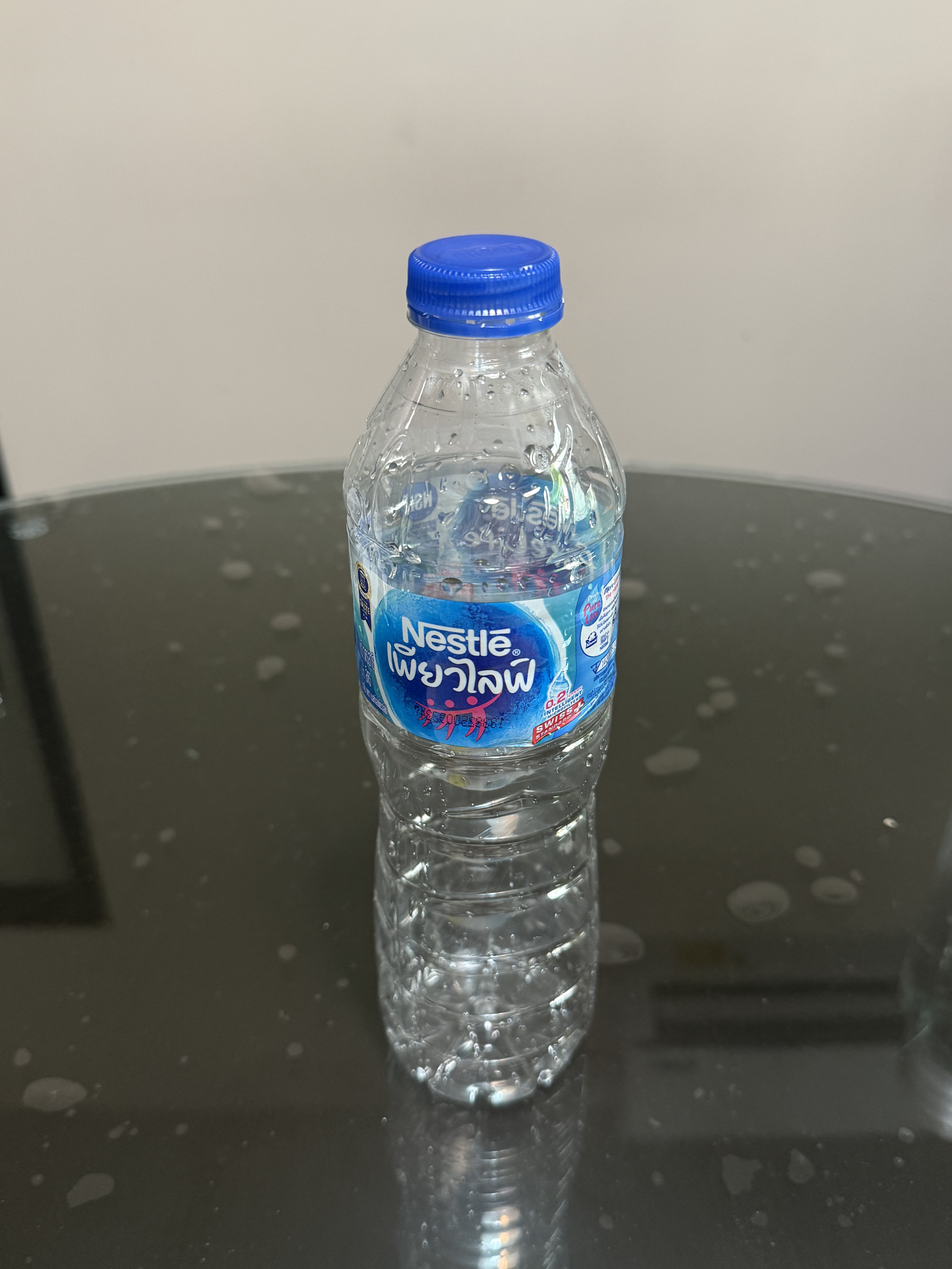closed_cap: (403, 230, 566, 337)
